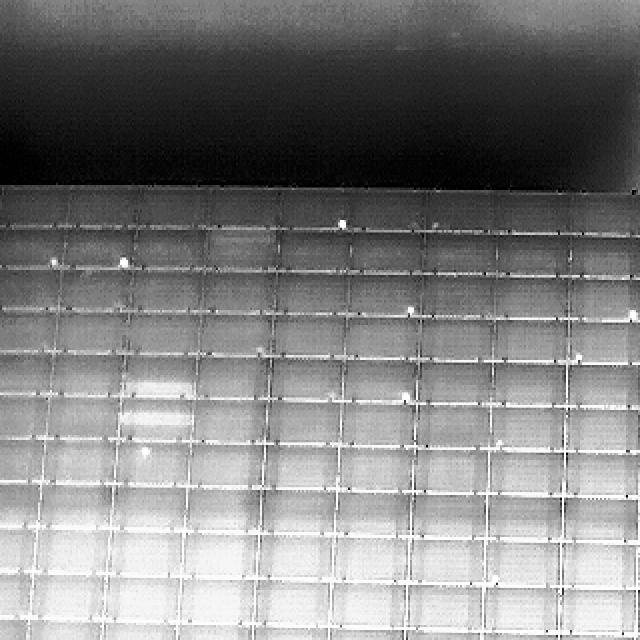Hotspots: (622, 298, 640, 318), (403, 299, 417, 322), (46, 256, 62, 274), (400, 386, 413, 404), (138, 445, 153, 460), (488, 573, 504, 587), (114, 253, 128, 268), (336, 218, 348, 232), (572, 352, 584, 366), (638, 617, 640, 635)
PV-modules: (253, 535, 332, 584), (33, 528, 109, 578), (557, 589, 636, 637), (177, 575, 254, 624), (250, 578, 328, 626), (343, 189, 428, 233), (329, 582, 406, 630), (485, 588, 562, 636), (40, 436, 115, 485), (181, 533, 256, 582), (415, 405, 493, 452), (262, 486, 338, 534), (564, 452, 640, 500), (182, 486, 258, 534), (408, 538, 484, 586), (564, 495, 640, 543), (562, 543, 638, 591), (263, 400, 339, 448), (48, 350, 124, 398), (106, 532, 181, 580), (189, 399, 264, 447), (28, 571, 103, 619), (106, 573, 181, 621), (36, 484, 111, 532), (409, 492, 487, 538), (492, 407, 568, 454), (269, 356, 345, 403), (332, 536, 408, 583), (416, 450, 490, 498), (340, 356, 414, 404), (490, 494, 564, 542), (338, 402, 413, 449), (278, 226, 353, 273), (414, 358, 494, 402), (490, 454, 566, 500), (336, 449, 412, 495), (335, 490, 411, 536), (110, 486, 184, 533), (349, 230, 426, 275), (568, 275, 640, 323), (193, 354, 268, 400), (421, 274, 497, 319), (407, 585, 481, 631), (274, 271, 348, 317), (264, 446, 339, 491), (204, 226, 279, 271), (492, 319, 567, 364), (570, 320, 640, 368), (58, 313, 131, 359), (201, 270, 274, 316), (492, 277, 570, 320), (418, 318, 494, 362), (492, 361, 568, 405), (422, 233, 498, 277), (128, 314, 202, 359), (490, 542, 562, 588), (119, 399, 191, 445), (129, 268, 204, 312), (132, 226, 210, 268), (57, 268, 128, 314), (566, 408, 640, 452), (568, 360, 640, 405), (186, 446, 261, 489), (206, 188, 281, 231), (137, 188, 212, 231), (346, 272, 416, 318), (42, 398, 118, 440), (574, 190, 640, 238), (272, 317, 347, 359), (502, 190, 570, 236), (123, 353, 194, 397), (347, 318, 421, 360), (426, 190, 500, 232), (69, 188, 142, 230), (495, 238, 571, 278), (116, 446, 188, 488), (197, 316, 270, 357), (2, 188, 73, 230), (570, 238, 640, 280), (61, 225, 130, 267), (278, 188, 346, 229), (0, 225, 64, 268), (0, 311, 56, 357), (0, 268, 58, 310), (0, 351, 51, 396), (0, 398, 47, 442), (0, 435, 43, 483), (24, 617, 104, 640), (0, 481, 39, 528), (102, 617, 180, 640), (0, 528, 36, 576), (0, 570, 31, 617), (172, 622, 248, 640), (246, 625, 326, 640), (324, 625, 402, 640), (400, 627, 478, 640), (480, 630, 560, 640), (556, 632, 636, 640), (0, 615, 24, 640), (636, 542, 640, 592), (636, 455, 640, 503), (636, 495, 640, 543), (636, 590, 640, 638), (638, 362, 640, 408), (634, 632, 640, 640)
